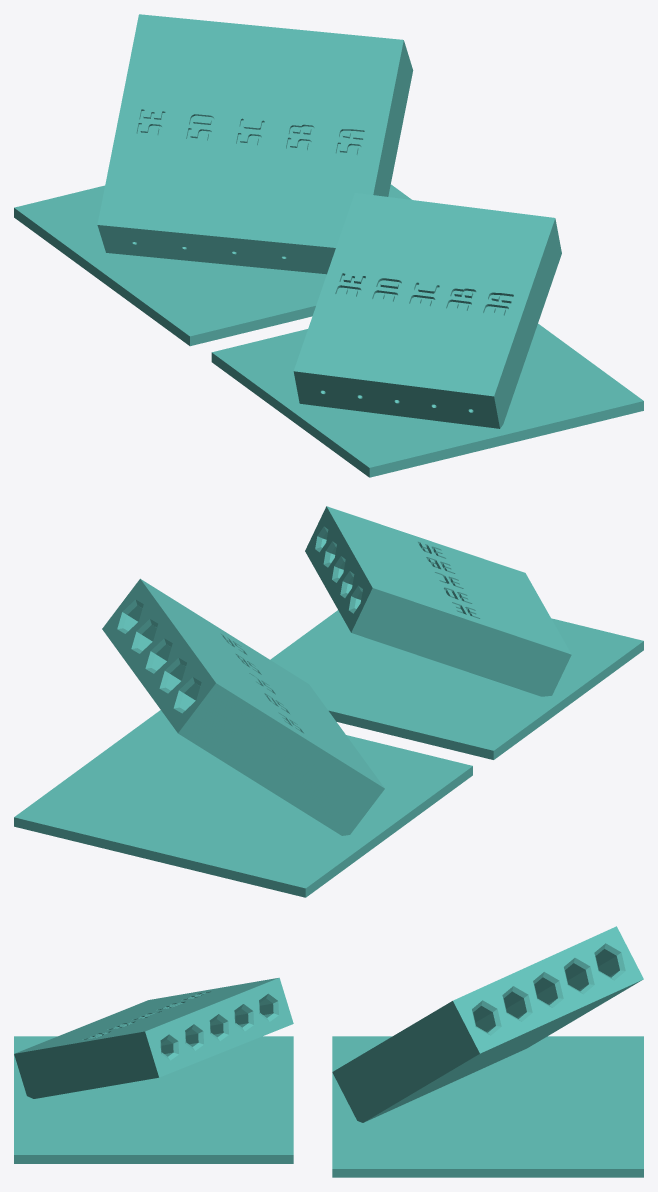
The model's file is coupon.glb.
3 renders of one model, top to bottom at view 1: azimuth 30°, elevation 25°; view 2: azimuth 150°, elevation 25°; view 3: azimuth 270°, elevation 25°, orthographic. The views are drawn at different scales.
Bounding box in the file's own units: 0.0653 × 0.0382 × 0.1311.
